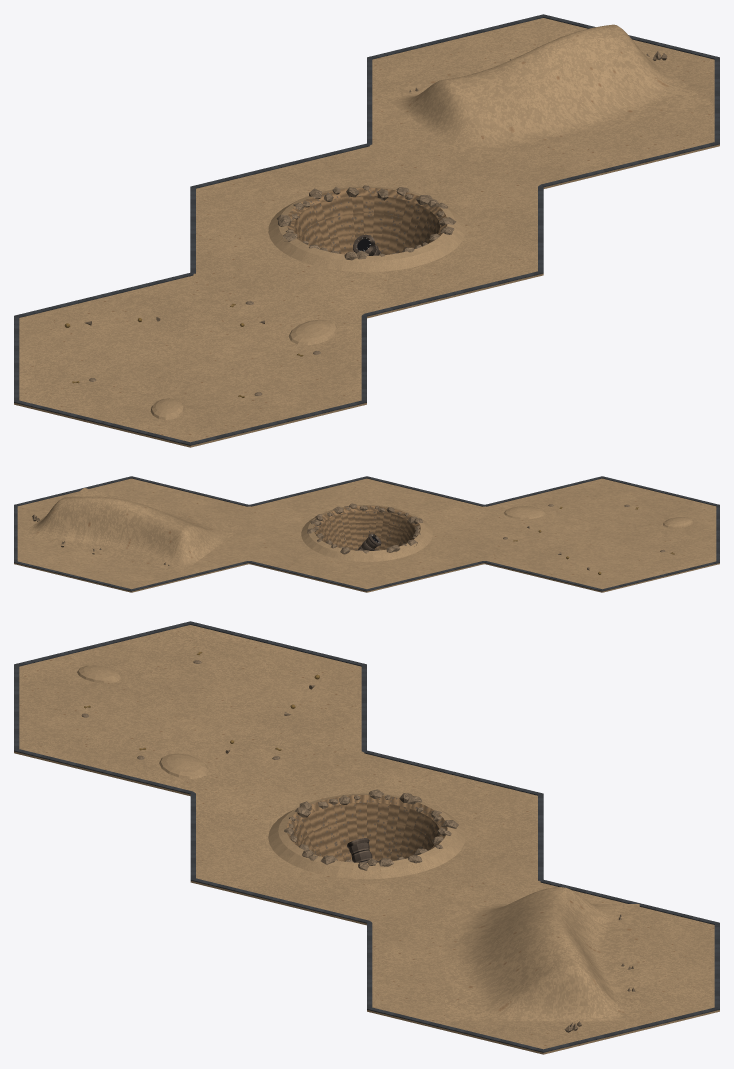
File: WasteHex_Line3.glb
The picture shows the model from 3 angles, top to bottom: view 1: azimuth 30°, elevation 25°; view 2: azimuth 150°, elevation 25°; view 3: azimuth 270°, elevation 25°; orthographic projection. The views are drawn at different scales.
Visible parts, largest first — view 1: WasteHex_Line3_Ground, WasteHex_Line3_Prop_WasteO, WasteHex_Line3_GroundTrim, WasteHex_Line3_Prop_PitWall, WasteHex_Line3_Prop_PitRim, WasteHex_Line3_Prop_Rock, WasteHex_Line3_Prop_Drift; view 2: WasteHex_Line3_Ground, WasteHex_Line3_Prop_WasteO, WasteHex_Line3_GroundTrim, WasteHex_Line3_Prop_PitWall, WasteHex_Line3_Prop_PitRim, WasteHex_Line3_Prop_Rock, WasteHex_Line3_Prop_Drift, WasteHex_Line3_Worm; view 3: WasteHex_Line3_Ground, WasteHex_Line3_Prop_WasteO, WasteHex_Line3_GroundTrim, WasteHex_Line3_Prop_PitWall, WasteHex_Line3_Prop_PitRim, WasteHex_Line3_Prop_Rock, WasteHex_Line3_Prop_Drift.
Boxes of the visible parts, box(x1,y1,x2,y2) form: WasteHex_Line3_Ground: box(14, 18, 719, 447); WasteHex_Line3_Prop_WasteO: box(375, 24, 712, 162); WasteHex_Line3_GroundTrim: box(14, 14, 719, 445); WasteHex_Line3_Prop_PitWall: box(287, 188, 447, 254); WasteHex_Line3_Prop_PitRim: box(268, 186, 465, 272); WasteHex_Line3_Prop_Rock: box(276, 185, 455, 260); WasteHex_Line3_Prop_Drift: box(150, 319, 337, 419); WasteHex_Line3_Ground: box(14, 478, 719, 592); WasteHex_Line3_Prop_WasteO: box(20, 488, 243, 574); WasteHex_Line3_GroundTrim: box(14, 476, 719, 591); WasteHex_Line3_Prop_PitWall: box(313, 505, 420, 550); WasteHex_Line3_Prop_PitRim: box(301, 505, 432, 561); WasteHex_Line3_Prop_Rock: box(307, 503, 422, 554); WasteHex_Line3_Prop_Drift: box(504, 506, 693, 528); WasteHex_Line3_Worm: box(355, 533, 381, 550); WasteHex_Line3_Ground: box(14, 625, 719, 1054); WasteHex_Line3_Prop_WasteO: box(445, 887, 639, 1021); WasteHex_Line3_GroundTrim: box(14, 621, 719, 1052); WasteHex_Line3_Prop_PitWall: box(286, 795, 447, 861); WasteHex_Line3_Prop_PitRim: box(268, 793, 465, 879); WasteHex_Line3_Prop_Rock: box(284, 789, 458, 870); WasteHex_Line3_Prop_Drift: box(77, 665, 208, 778).
Bounding box in the file's own units: 30 × 3.51 × 20.78.
12 materials, 12 textured.
